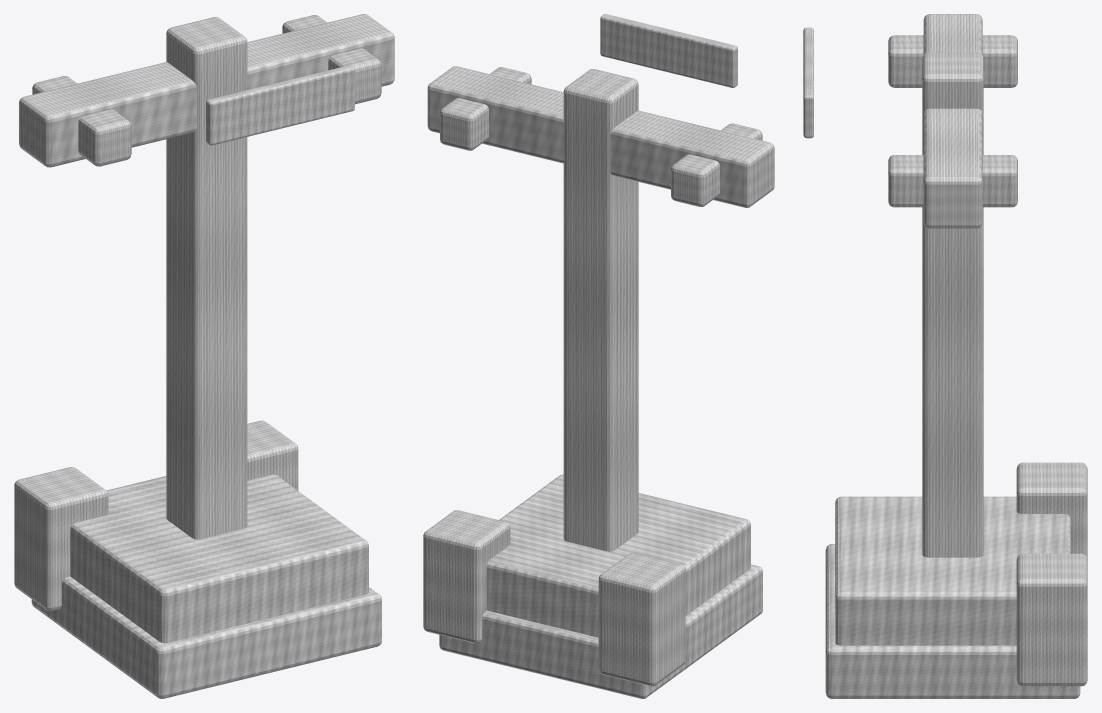
Rendered from conveyor_pole_variant_d.glb.
3 renders of one model, left to right at view 1: azimuth 30°, elevation 25°; view 2: azimuth 150°, elevation 25°; view 3: azimuth 270°, elevation 25°, orthographic. The views are drawn at different scales.
Visible parts, largest first — view 1: Pole shaft.003, Pole foot.003, Foundation.003, Belt support arm, Service foot.006, Asset ID plate, Belt cradle.007, Service foot.007, Belt cradle; view 2: Pole shaft.003, Pole foot.003, Belt support arm, Foundation.003, Service foot.006, Service foot.007, Asset ID plate, Belt cradle, Belt cradle.007; view 3: Pole foot.003, Pole shaft.003, Foundation.003, Service foot.007, Belt support arm, Service foot.006, Belt cradle, Belt cradle.007, Asset ID plate.
Boxes of the visible parts, x1,y1,x2,y2 form: Pole shaft.003: (166, 17, 247, 539); Pole foot.003: (70, 474, 368, 643); Foundation.003: (31, 576, 381, 698); Belt support arm: (19, 14, 394, 167); Service foot.006: (14, 467, 108, 611); Asset ID plate: (206, 65, 354, 145); Belt cradle.007: (32, 76, 131, 166); Service foot.007: (247, 420, 298, 490); Belt cradle: (282, 15, 381, 104); Pole shaft.003: (563, 69, 638, 551); Pole foot.003: (486, 474, 750, 637); Belt support arm: (427, 66, 774, 207); Foundation.003: (439, 564, 762, 698); Service foot.006: (598, 553, 685, 686); Service foot.007: (423, 510, 510, 643); Asset ID plate: (600, 14, 737, 87); Belt cradle: (440, 67, 531, 150); Belt cradle.007: (671, 123, 762, 206); Pole foot.003: (835, 496, 1070, 645); Pole shaft.003: (922, 52, 983, 557); Foundation.003: (825, 544, 1080, 698); Service foot.007: (1016, 553, 1087, 686); Belt support arm: (923, 14, 982, 228); Service foot.006: (1016, 462, 1087, 558); Belt cradle: (888, 155, 1017, 207); Belt cradle.007: (888, 35, 1017, 87); Asset ID plate: (803, 27, 813, 138).
Size of what is drawn, in the model's own units: 1.68 by 2.74 by 1.2.
4 materials, 4 textured.
